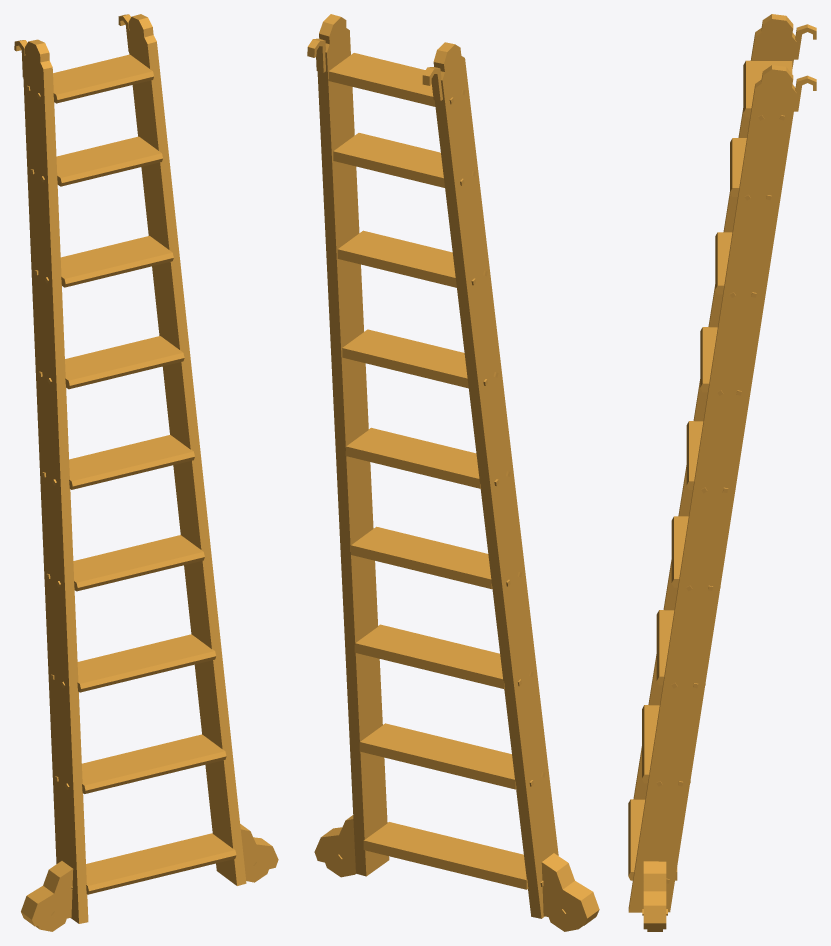
File: SM_Ladder_Sliding.fbx
3 views of the same model, side by side, from view 1: azimuth 30°, elevation 25°; view 2: azimuth 150°, elevation 25°; view 3: azimuth 270°, elevation 25° (orthographic). The views are drawn at different scales.
Visible parts, largest first — view 1: ladder-sliding; view 2: ladder-sliding; view 3: ladder-sliding.
Part boxes in pixels (<box>): ladder-sliding: <box>14,14,278,931</box>; ladder-sliding: <box>307,14,599,931</box>; ladder-sliding: <box>628,14,816,931</box>.
Size of the model in its own units: 0.8923 by 2.87 by 0.5843.
